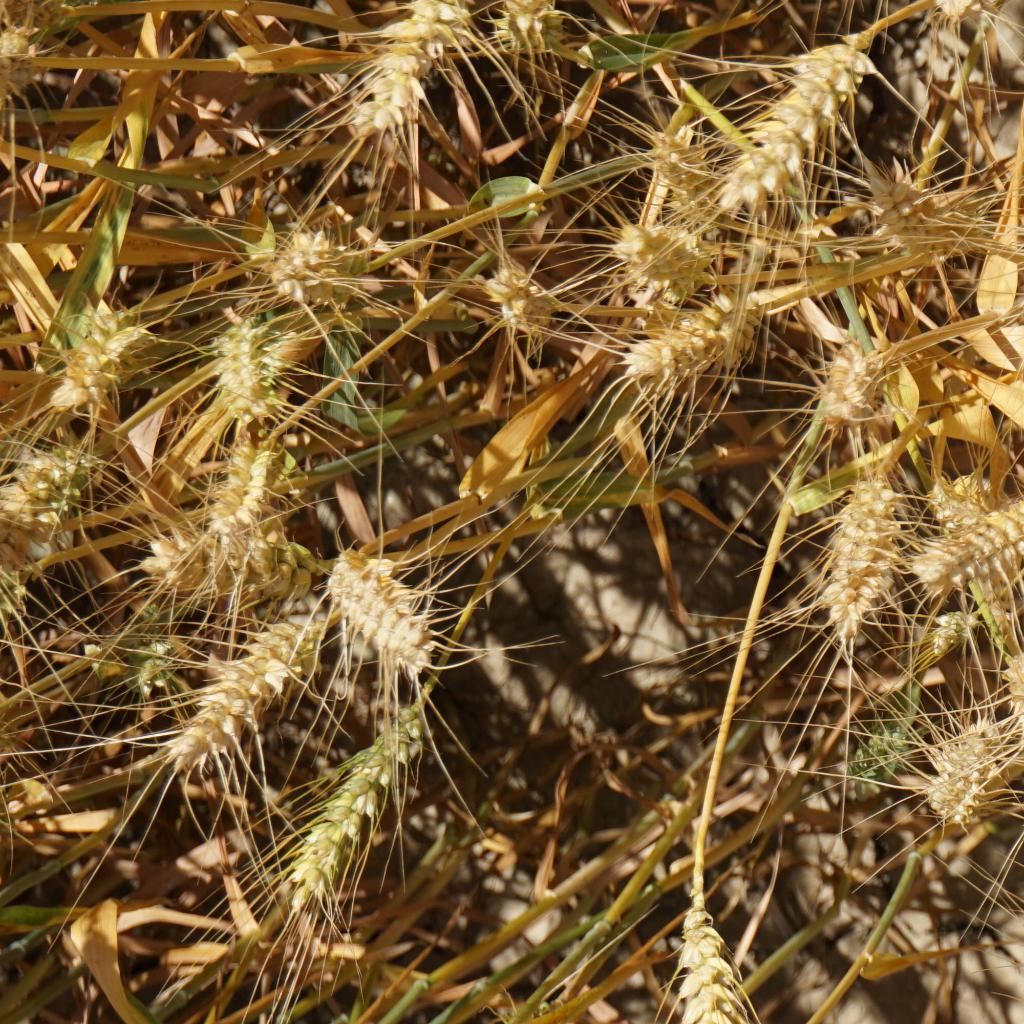0-0: (720, 24, 856, 227), (303, 711, 419, 887), (192, 620, 312, 766), (355, 0, 456, 124), (612, 288, 738, 385), (144, 519, 314, 588), (324, 550, 429, 659), (188, 428, 287, 540), (927, 452, 1009, 585), (823, 482, 887, 640), (0, 446, 80, 559), (868, 170, 967, 261), (629, 96, 719, 195), (675, 898, 740, 1024), (799, 341, 890, 429), (265, 211, 354, 300), (204, 305, 281, 405), (54, 318, 133, 412), (920, 507, 1024, 577), (605, 211, 699, 287), (934, 723, 1001, 823), (472, 252, 543, 327), (850, 716, 905, 792), (0, 16, 54, 80), (496, 0, 566, 48), (999, 641, 1024, 775), (930, 603, 974, 662), (918, 0, 984, 15)
